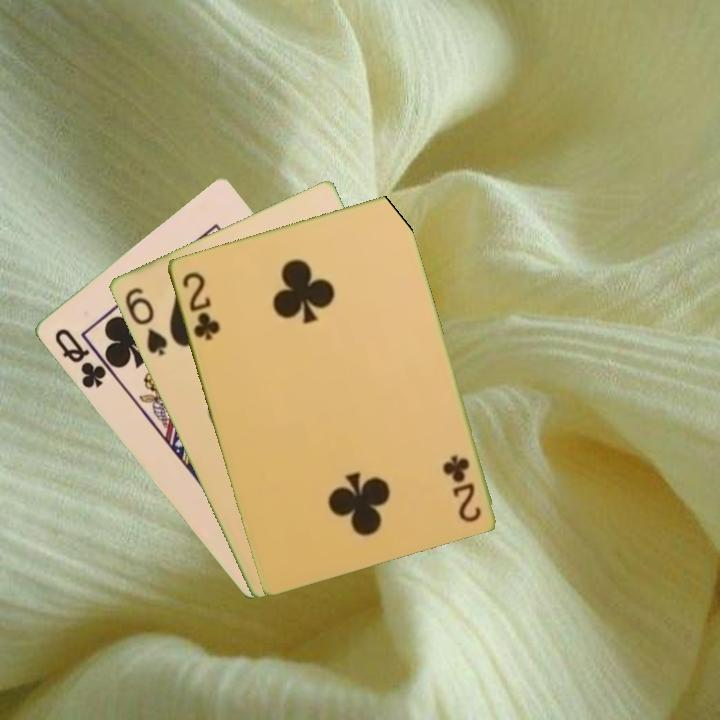2c: (178, 268, 223, 344), (441, 451, 484, 525)
6s: (121, 283, 170, 359)
Qc: (50, 325, 109, 392)
